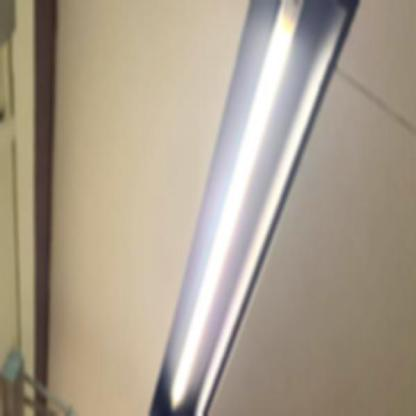light_on: (164, 0, 306, 415)
